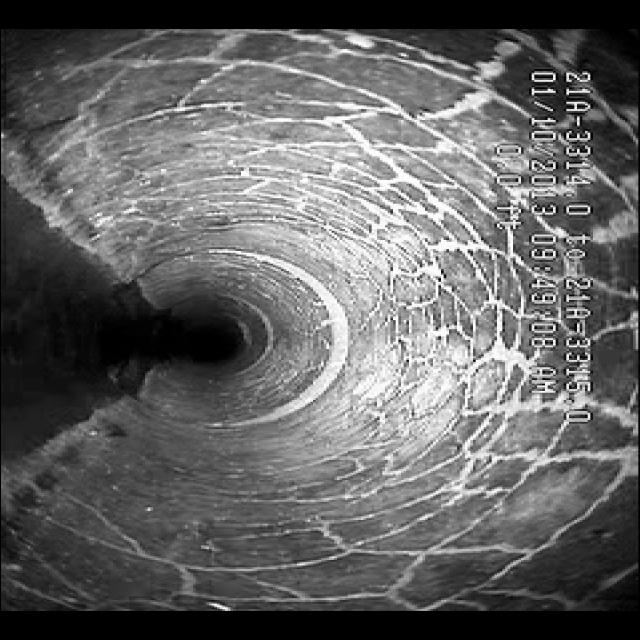Crack: (232, 429, 614, 589)
